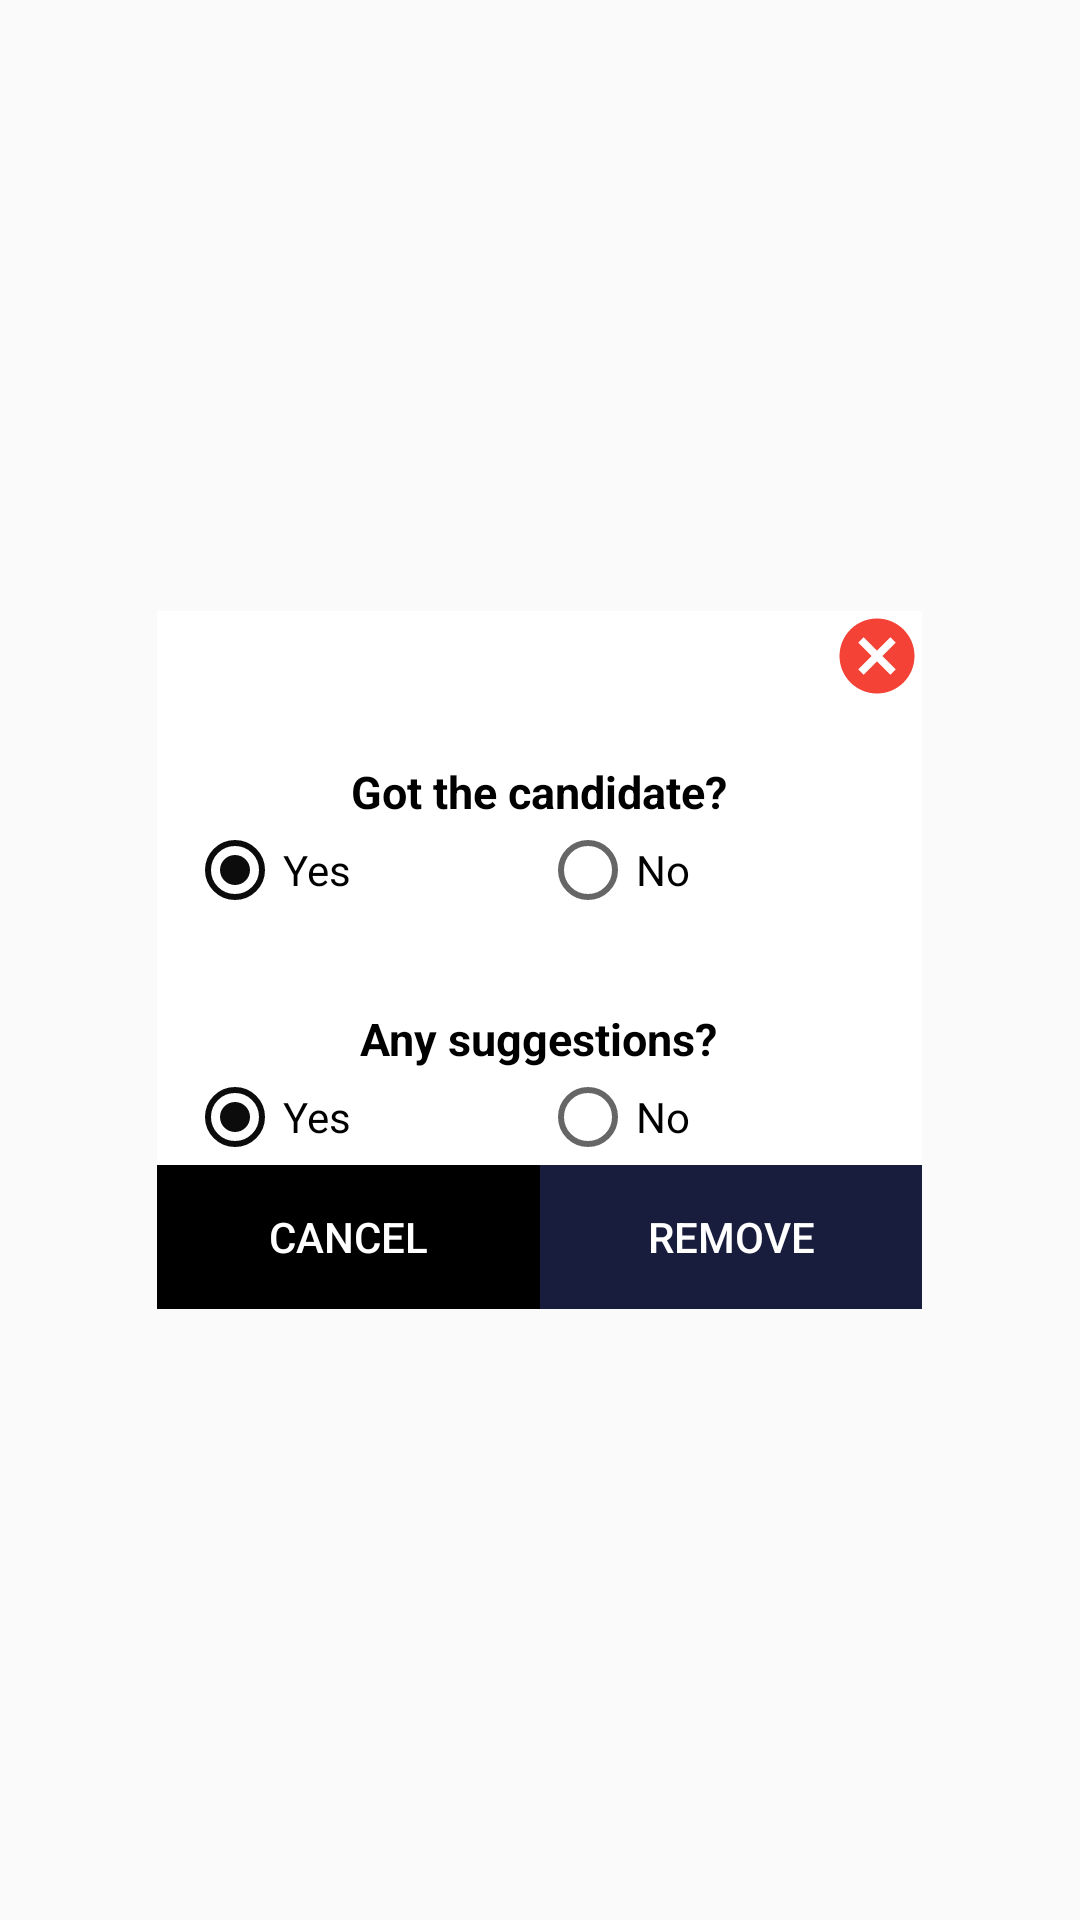

Where icons sit on this 1080×1920 app screen, as [x1,y1,x2,y2]:
cancel: [839,618,915,694]
